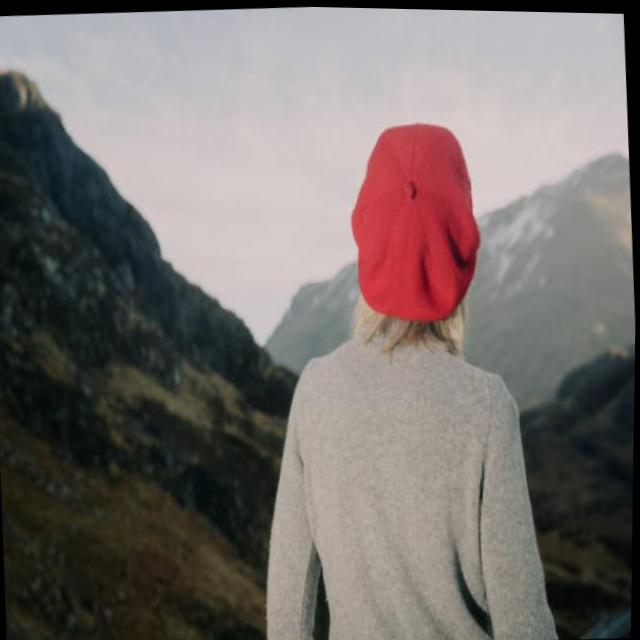no helmet: (336, 95, 506, 376)
